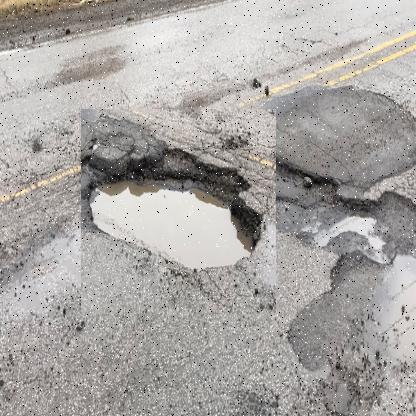damage: (268, 105, 414, 342)
pothole_water: (80, 110, 276, 316)
